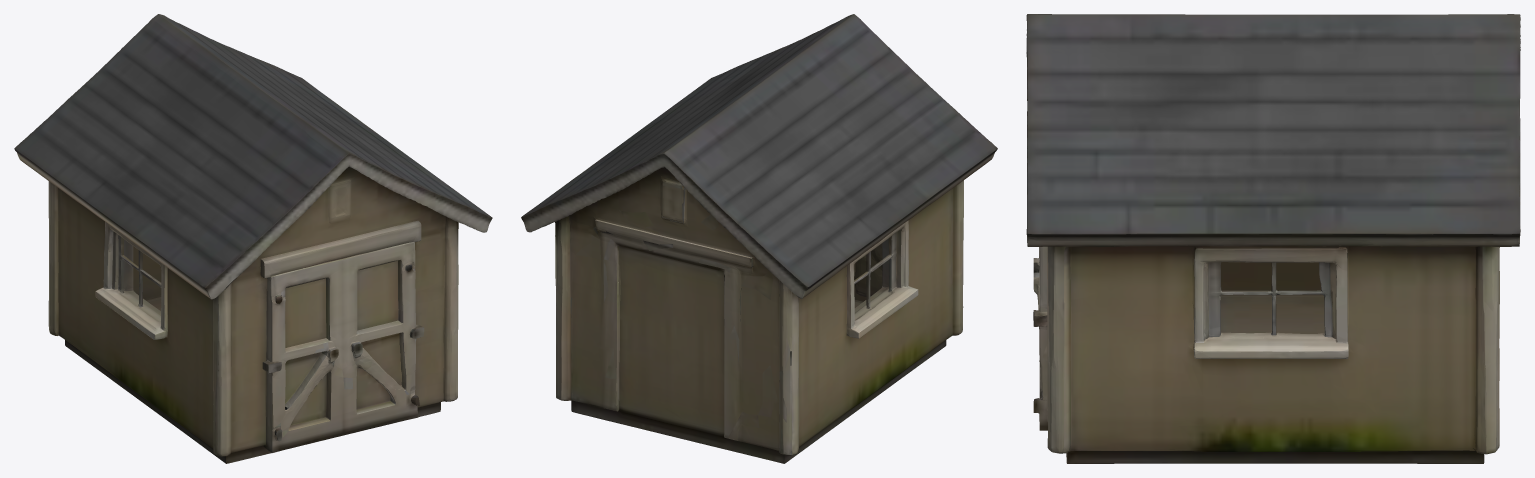
Rendered from shed.glb.
3 renders of one model, left to right at view 1: azimuth 30°, elevation 25°; view 2: azimuth 150°, elevation 25°; view 3: azimuth 270°, elevation 25°, orthographic. The views are drawn at different scales.
Visible parts, largest first — view 1: world; view 2: world; view 3: world.
Part boxes in pixels (x1=…): world: x1=14, y1=14, x2=492, y2=463; world: x1=521, y1=14, x2=997, y2=463; world: x1=1026, y1=14, x2=1520, y2=463.
Bounding box in the file's own units: 0.8725 × 0.8567 × 1.
1 material, 1 textured.
